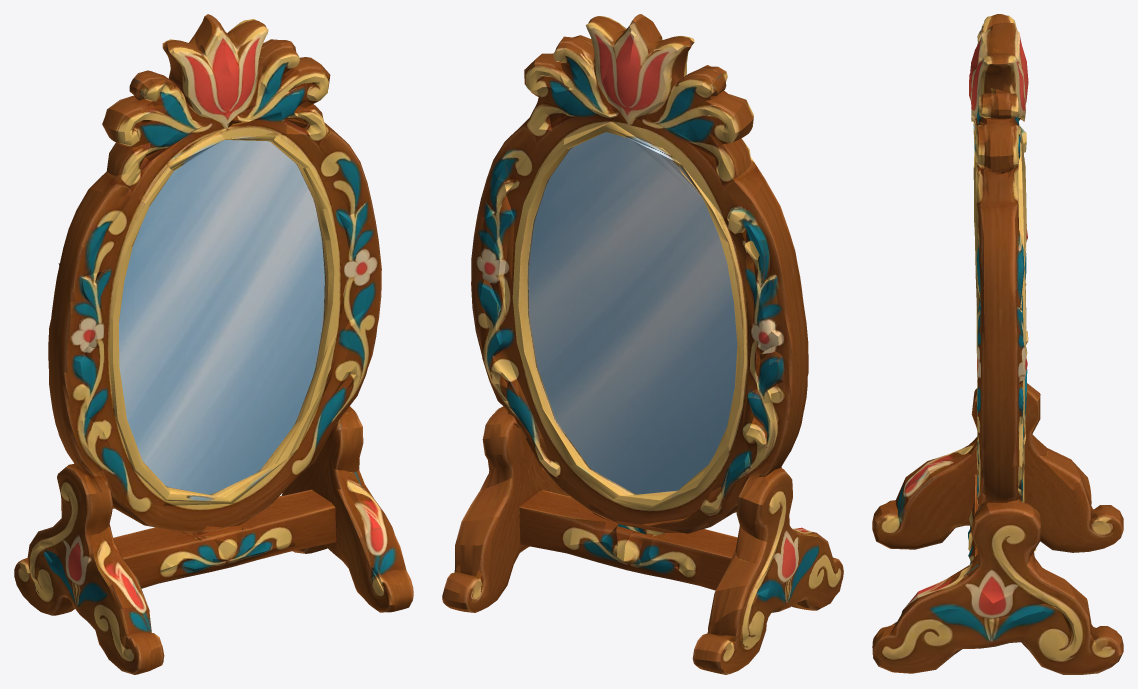
File: ayna.glb
The picture shows the model from 3 angles, left to right: view 1: azimuth 30°, elevation 25°; view 2: azimuth 150°, elevation 25°; view 3: azimuth 270°, elevation 25°; orthographic projection.
Parts seen in each view (by area): view 1: Mesh0; view 2: Mesh0; view 3: Mesh0.
Boxes of the visible parts, x1,y1,x2,y2 form: Mesh0: (14,14,413,674); Mesh0: (442,14,843,674); Mesh0: (872,14,1123,674).
Size of the model in its own units: 1.09 by 1.9 by 0.7382.
Materials: 1 (1 with a texture image).
